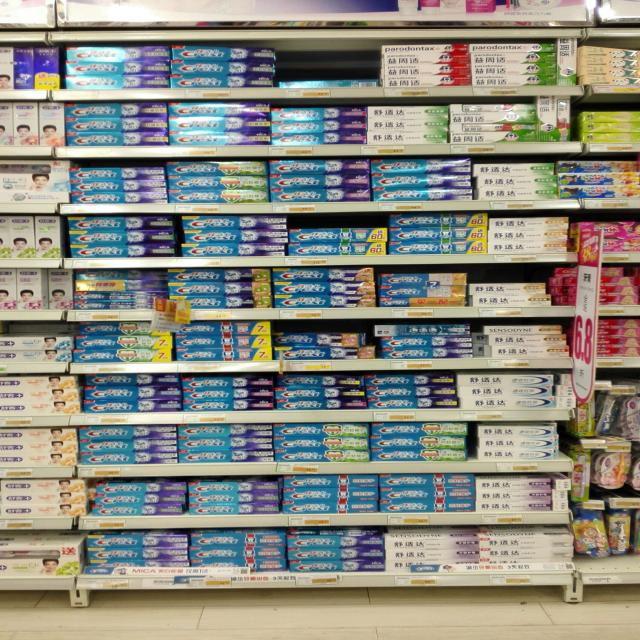unorganised: (473, 325, 575, 355), (271, 330, 366, 347), (373, 322, 474, 337), (274, 374, 364, 389), (75, 323, 171, 337), (279, 77, 382, 89), (82, 374, 179, 385), (597, 392, 618, 438)
